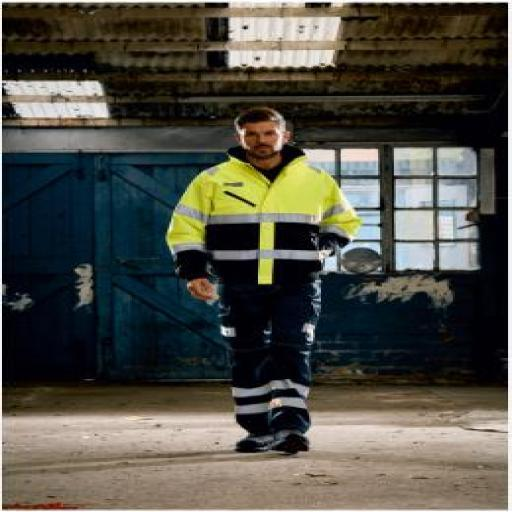safety_boots: (266, 422, 318, 463), (234, 421, 268, 466)
